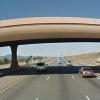Bridge: (3, 8, 96, 58)
